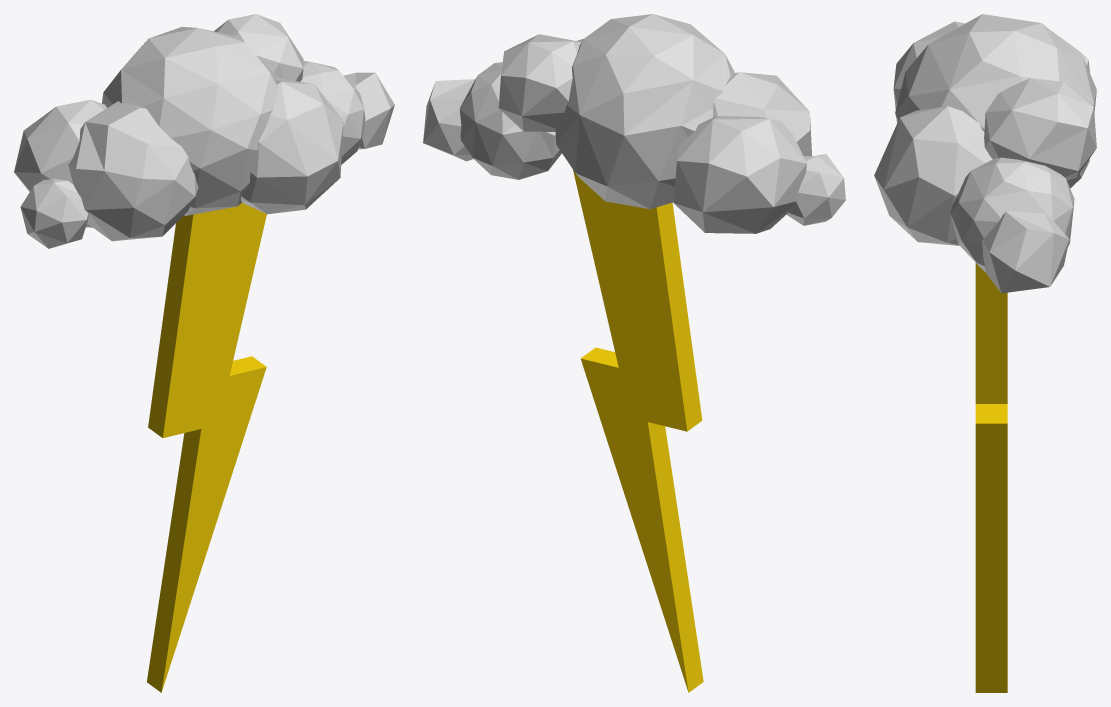
File: thunder.glb
3 views of the same model, side by side, from view 1: azimuth 30°, elevation 25°; view 2: azimuth 150°, elevation 25°; view 3: azimuth 270°, elevation 25° (orthographic). The views are drawn at different scales.
Parts seen in each view (by area): view 1: low_poly_cloud_v1, Curve; view 2: low_poly_cloud_v1, Curve; view 3: low_poly_cloud_v1, Curve.
Part boxes in pixels (<box>): low_poly_cloud_v1: <box>14,14,394,248</box>; Curve: <box>147,203,266,692</box>; low_poly_cloud_v1: <box>423,14,845,233</box>; Curve: <box>573,170,703,692</box>; low_poly_cloud_v1: <box>874,14,1096,293</box>; Curve: <box>975,263,1007,692</box>.
Bounding box in the file's own units: 0.5865 × 0.9307 × 0.272.
